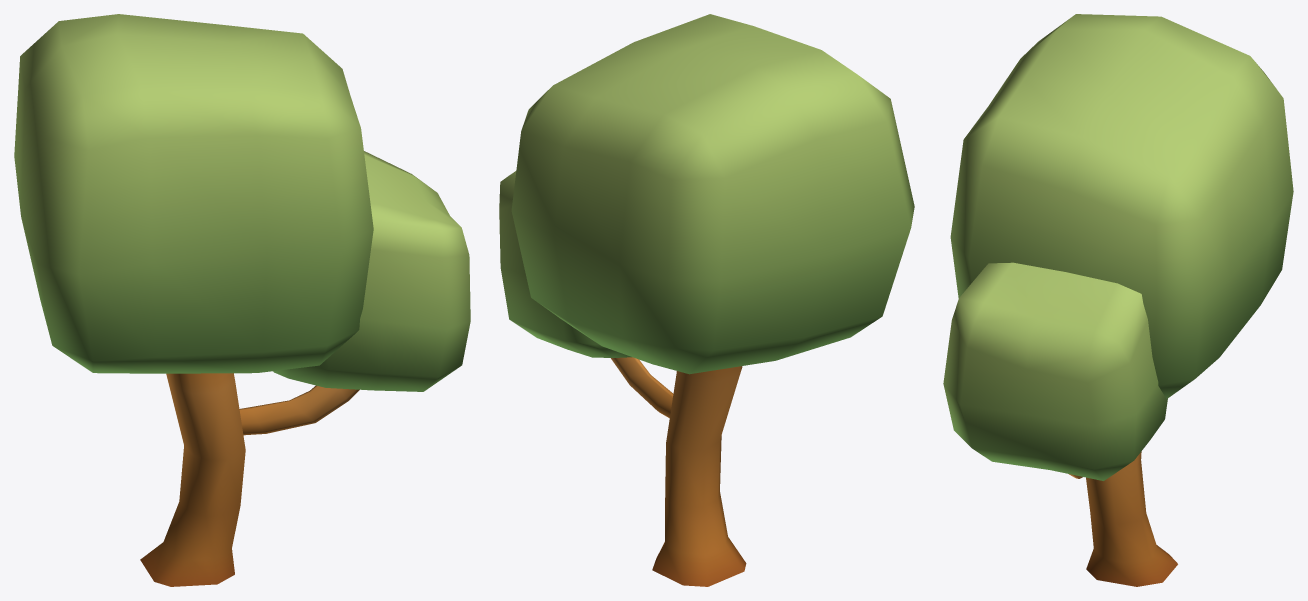
The model's file is Forest_Tree2.fbx.
3 renders of one model, left to right at view 1: azimuth 30°, elevation 25°; view 2: azimuth 150°, elevation 25°; view 3: azimuth 270°, elevation 25°, orthographic. The views are drawn at different scales.
Parts seen in each view (by area): view 1: Cube.004; view 2: Cube.004; view 3: Cube.004.
Boxes of the visible parts, bbox=[...] form: Cube.004: bbox=[14, 14, 470, 586]; Cube.004: bbox=[499, 14, 914, 586]; Cube.004: bbox=[943, 14, 1293, 586].
Bounding box in the file's own units: 494 × 622 × 389.
